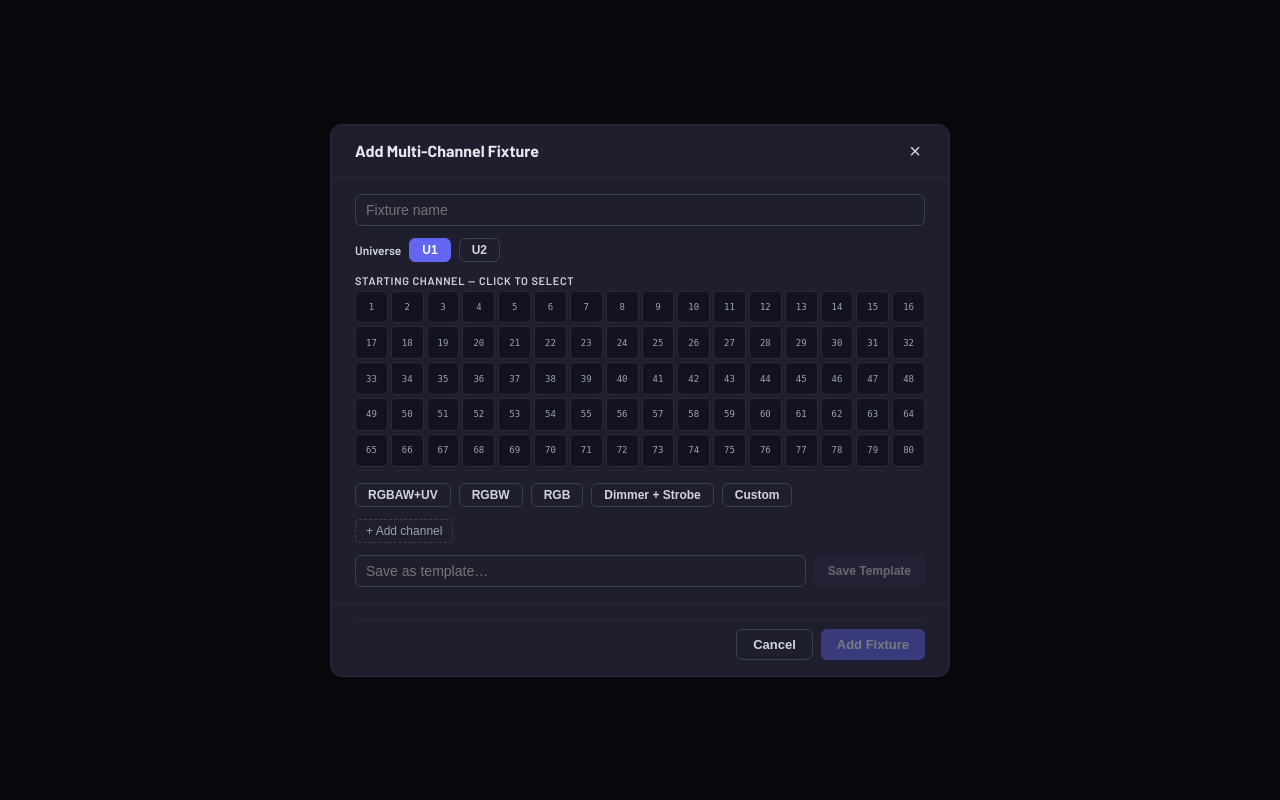
Test: CreateFixtureModal › disables Add Fixture until name, starting channel, and a layout are all set
Expected: the button "Add Fixture" is disabled, [821,628,925,660]
Type "Q6" into the field with placeholder "Fixture name" at (640, 210), box [355,194,925,226]
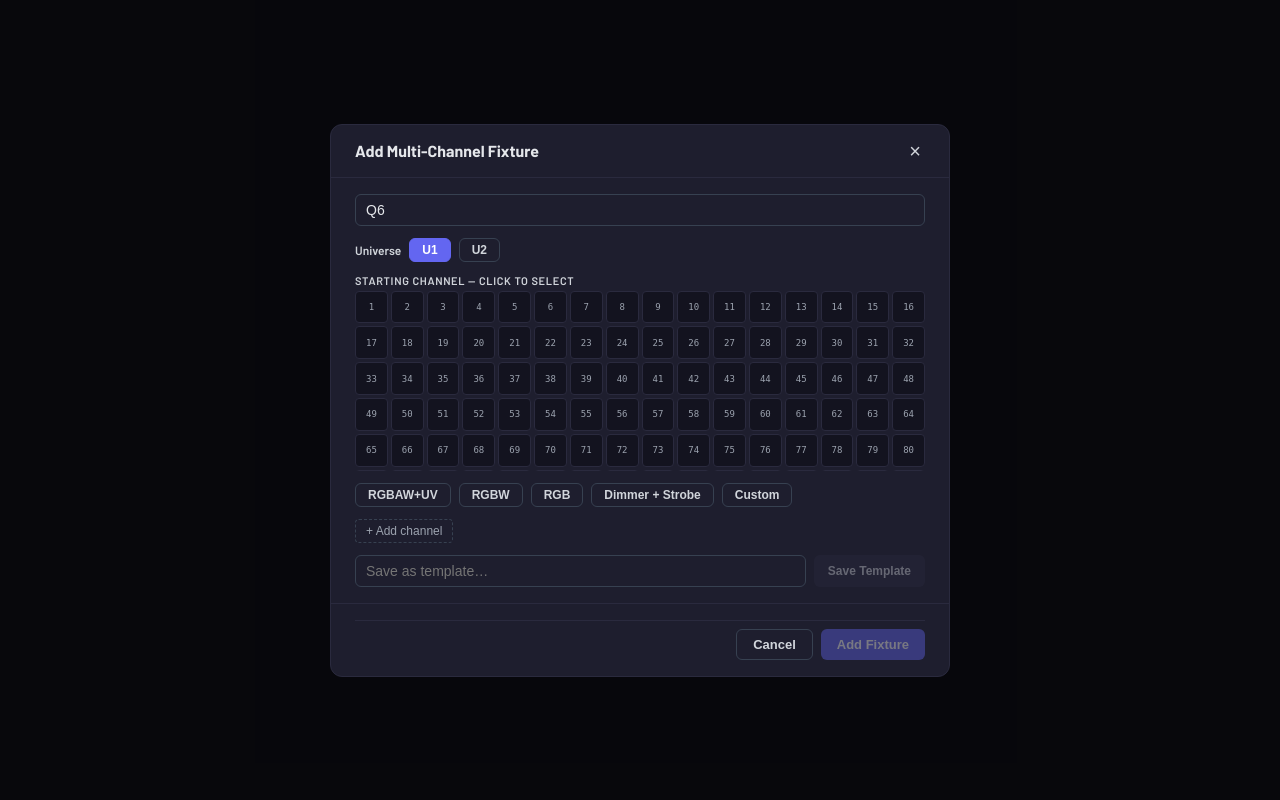
Expected: the button "Add Fixture" is disabled, [821,628,925,660]
Click the text titled "Channel 5" at (515, 307), box [498,290,531,323]
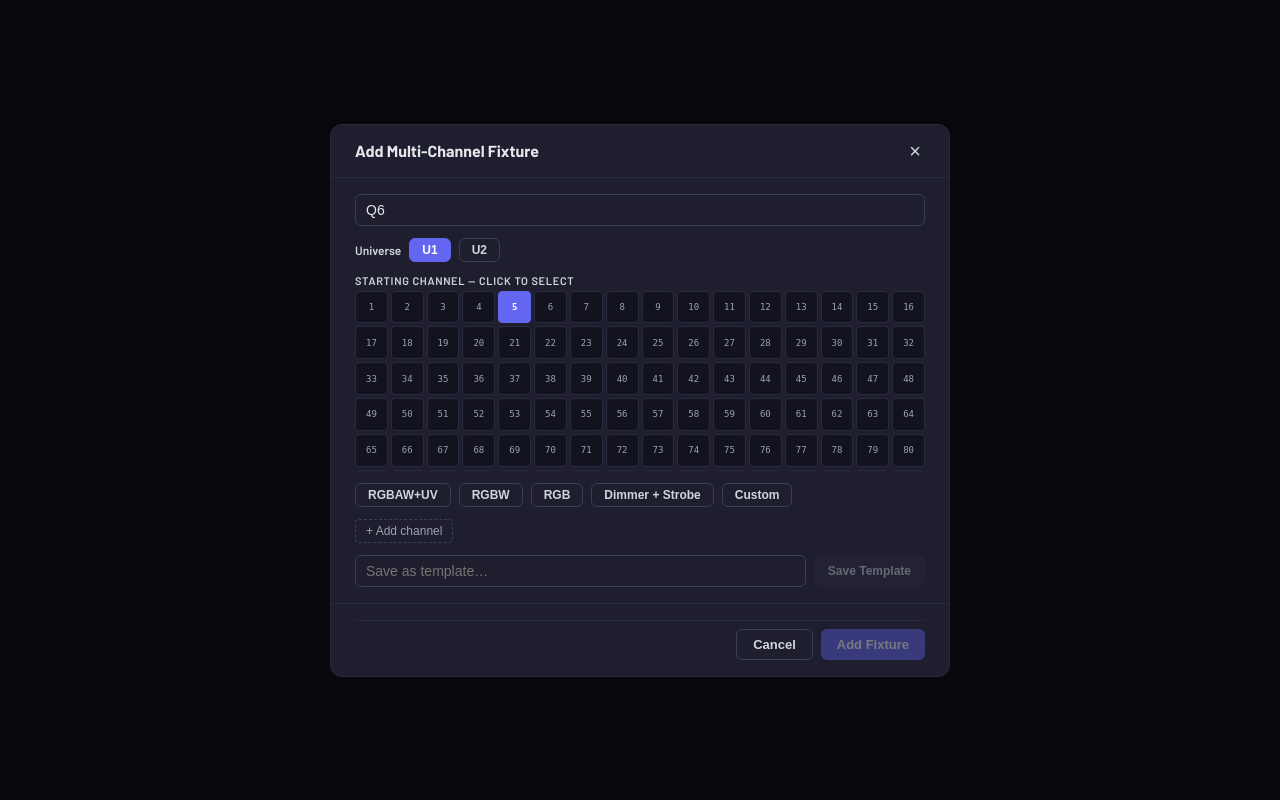
Expected: the button "Add Fixture" is disabled, [821,628,925,660]
Click the button "RGB" at (557, 494), box [531,482,583,506]
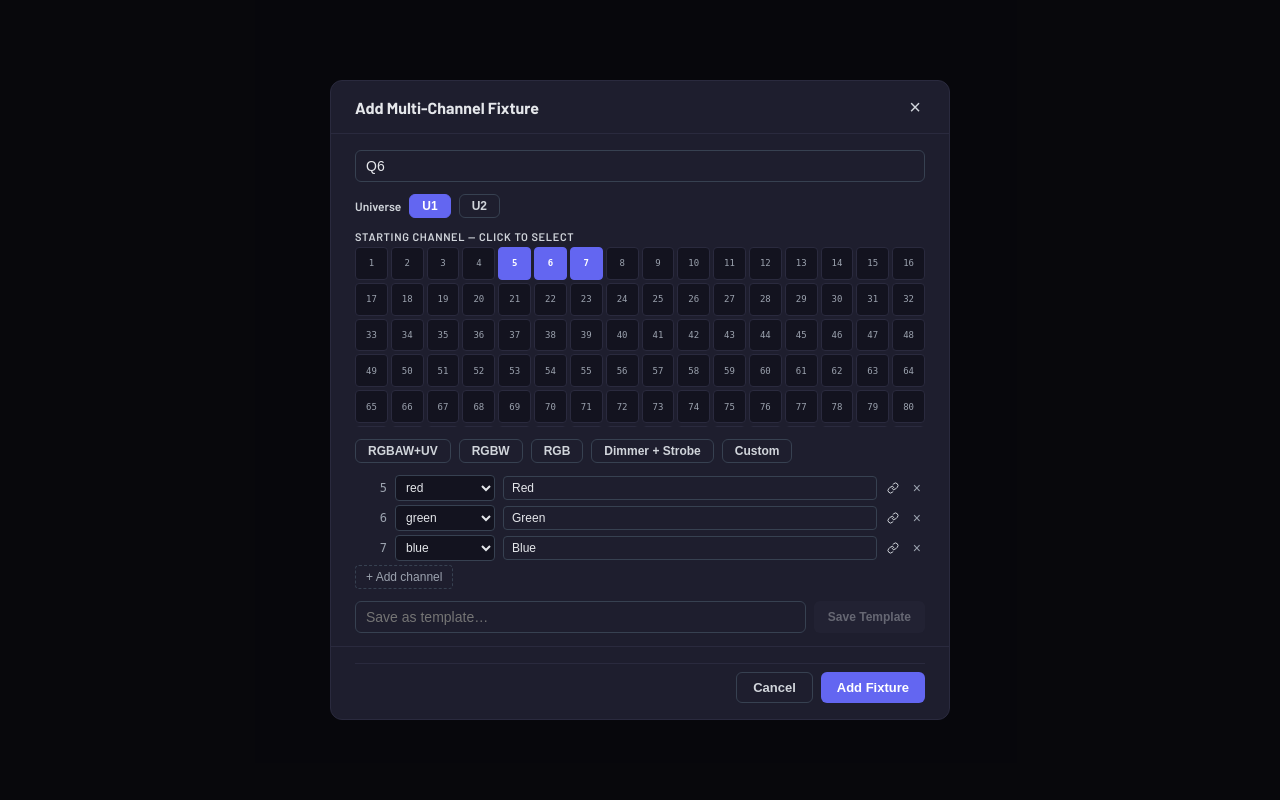
Now the button "Add Fixture" is enabled, box [821,672,925,703]
